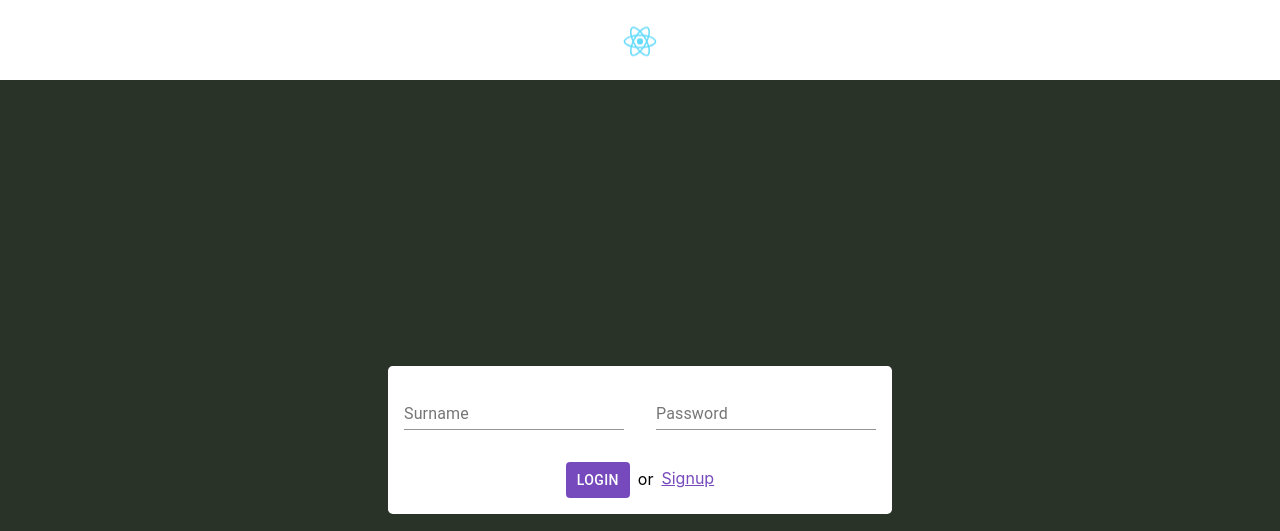
Connection form › can login
This screenshot has width=1280, height=531.
Type "choopi" into the element with test id "surname-input-text". click: [514, 406]
box: [404,382,624,430]
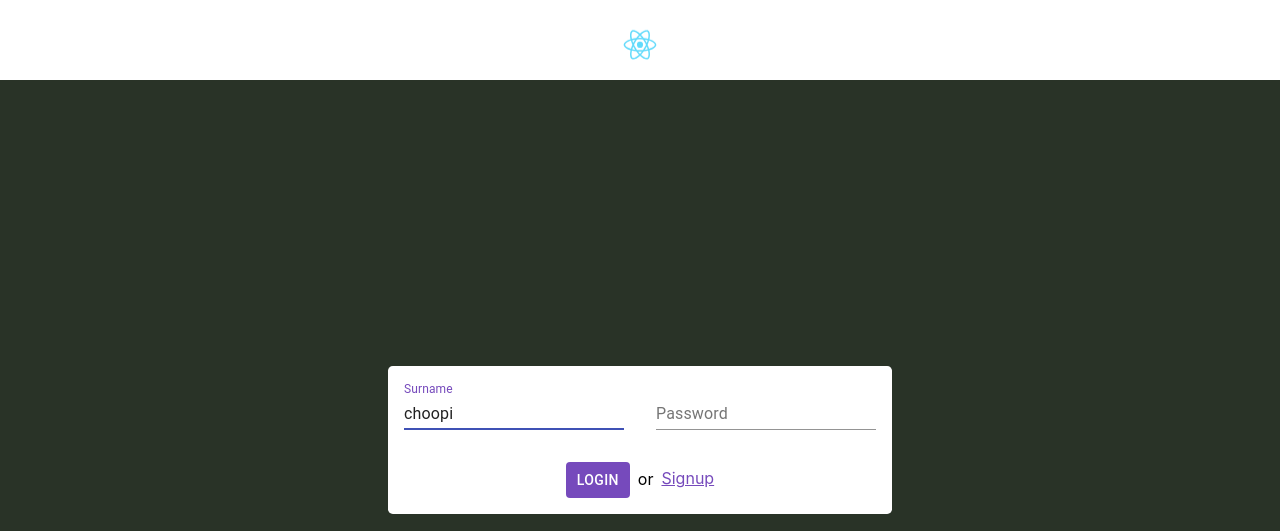
Type "1234" into the element with test id "password-input-text". click: [766, 406]
box: [656,382,876,430]
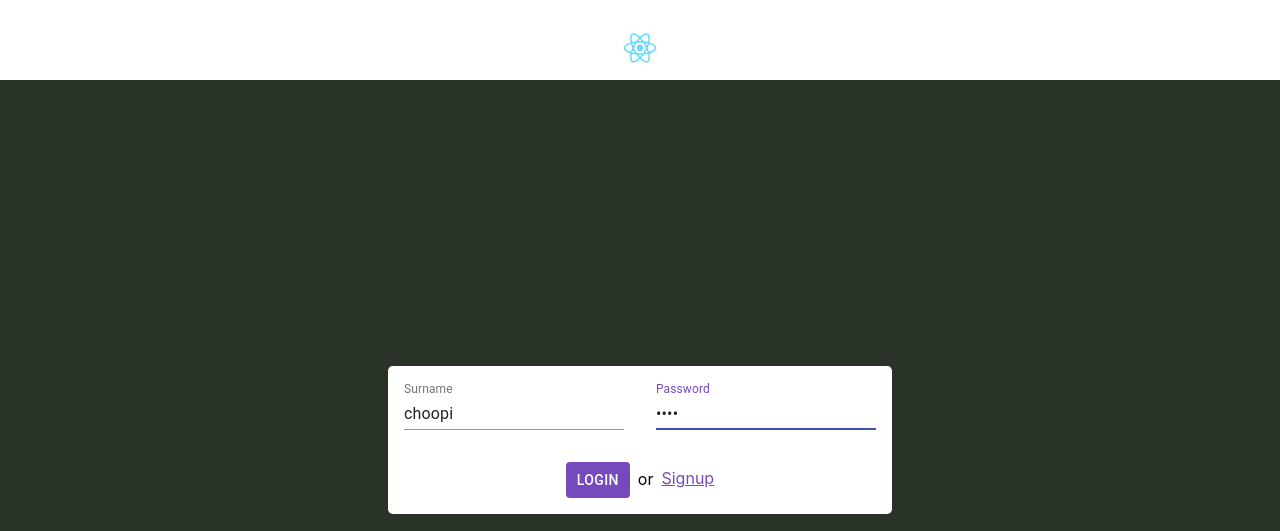
Press Enter in the password field named "password", box [656,398,876,430]
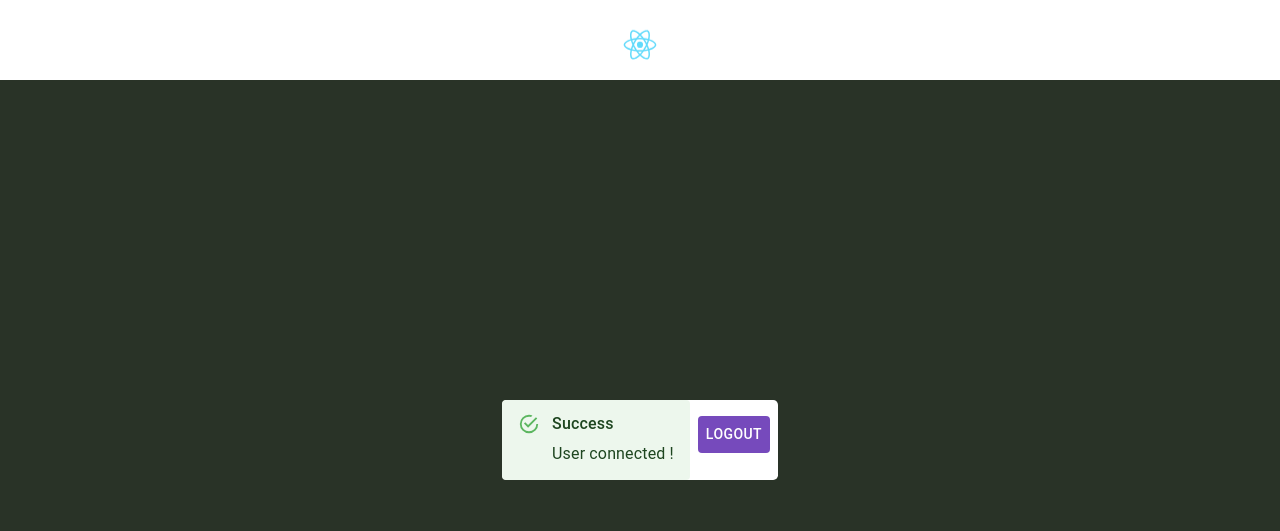
expect the form with test id "disconnect-form" is shown: met, box [502,400,778,480]
